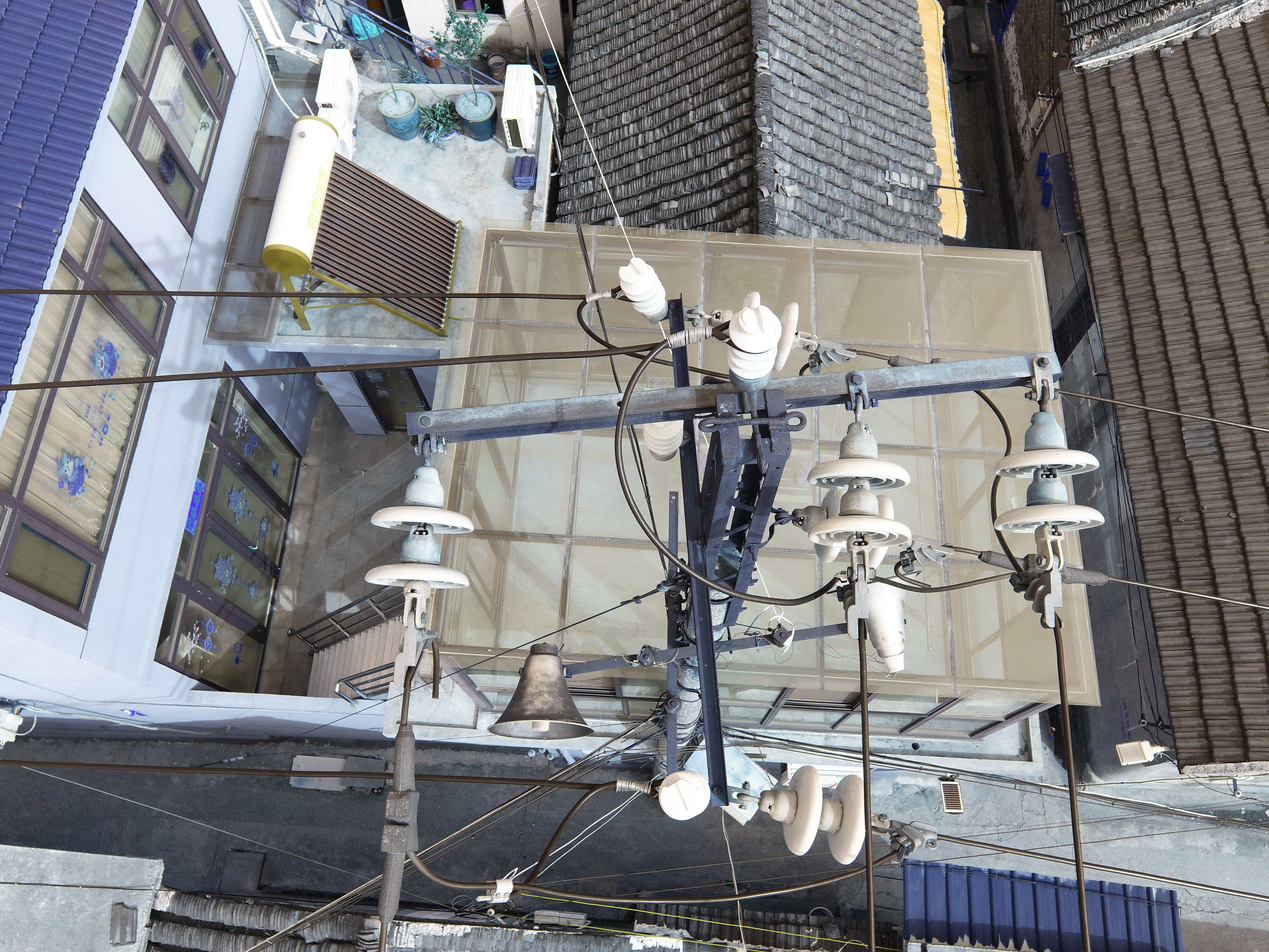severe_soiling_no_discharge_whole: (654, 296, 740, 815), (659, 489, 692, 782), (662, 693, 685, 716), (1037, 380, 1053, 413), (421, 439, 433, 467)
